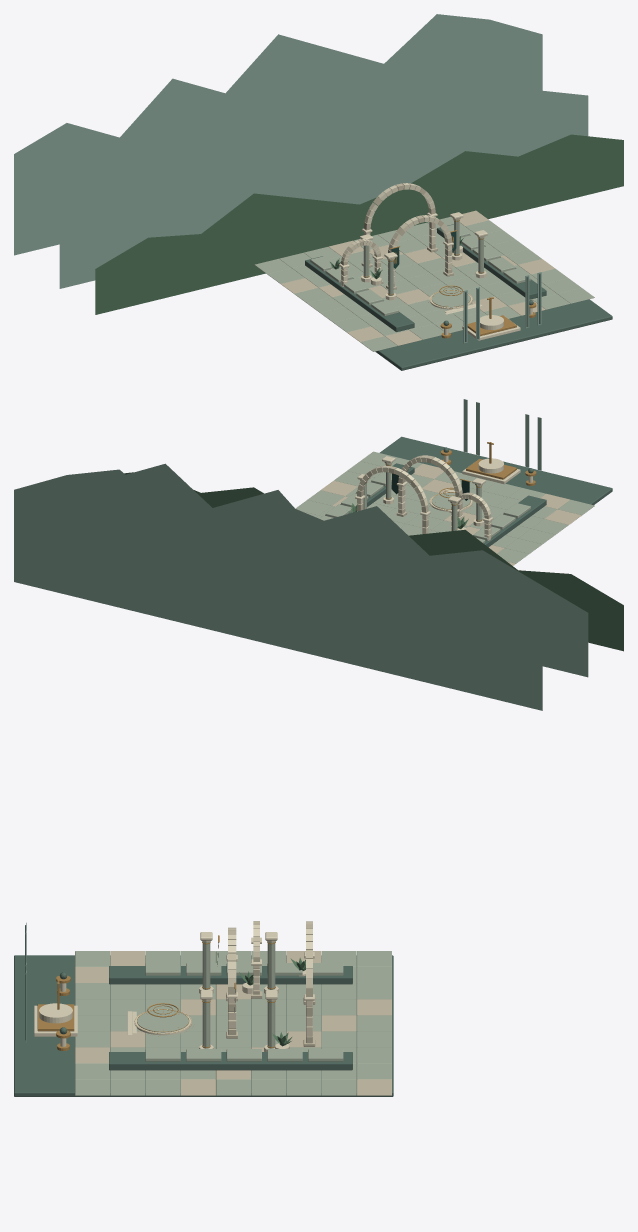
Rendered from oathhall-v2.glb.
3 renders of one model, top to bottom at view 1: azimuth 30°, elevation 25°; view 2: azimuth 150°, elevation 25°; view 3: azimuth 270°, elevation 25°, orthographic. The views are drawn at different scales.
Visible parts, largest first — view 1: TLL_HallV1_7, TLL_HallV1_6, TLL_HallV1_0, TLL_HallV1_4, TLL_HallV1_5, TLL_HallV1_1, TLL_HallV1_2; view 2: TLL_HallV1_7, TLL_HallV1_0, TLL_HallV1_6, TLL_HallV1_4, TLL_HallV1_1, TLL_HallV1_5, TLL_HallV1_2; view 3: TLL_HallV1_0, TLL_HallV1_4, TLL_HallV1_5, TLL_HallV1_1, TLL_HallV1_2.
Part boxes in pixels (x1,y1,x2,y2): TLL_HallV1_7: (14,14,588,343); TLL_HallV1_6: (95,134,623,314); TLL_HallV1_0: (254,217,594,351); TLL_HallV1_4: (305,224,612,370); TLL_HallV1_5: (281,183,554,345); TLL_HallV1_1: (331,183,532,340); TLL_HallV1_2: (363,220,536,338); TLL_HallV1_7: (14,399,588,710); TLL_HallV1_0: (295,451,594,563); TLL_HallV1_6: (124,472,623,651); TLL_HallV1_4: (325,436,612,547); TLL_HallV1_1: (355,455,532,540); TLL_HallV1_5: (321,455,581,565); TLL_HallV1_2: (366,442,536,521); TLL_HallV1_0: (75,942,391,1095); TLL_HallV1_4: (14,925,393,1096); TLL_HallV1_5: (75,922,391,1095); TLL_HallV1_1: (34,921,314,1051); TLL_HallV1_2: (37,935,275,1050).
Size of the model in its own units: 60 by 17 by 45.
